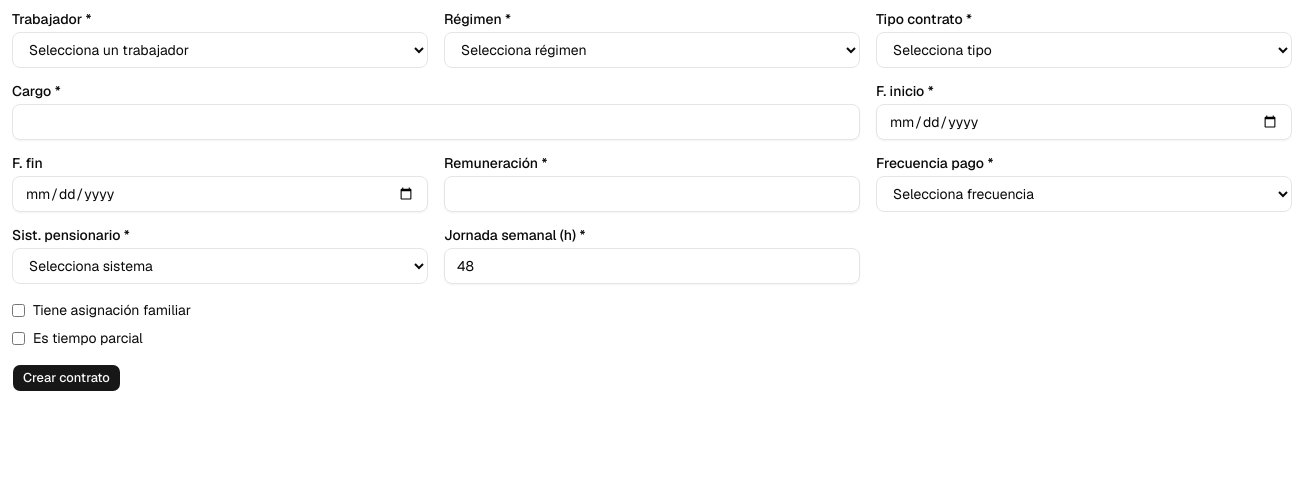
Scenario: ContratoForm — crear modo › CF6 regimenLaboral=CONSTRUCCION_CIVIL muestra Categoría CC
Select "Construcción Civil" in the dropdown labelled "Régimen *" at (652, 50), box [444,32,860,68]
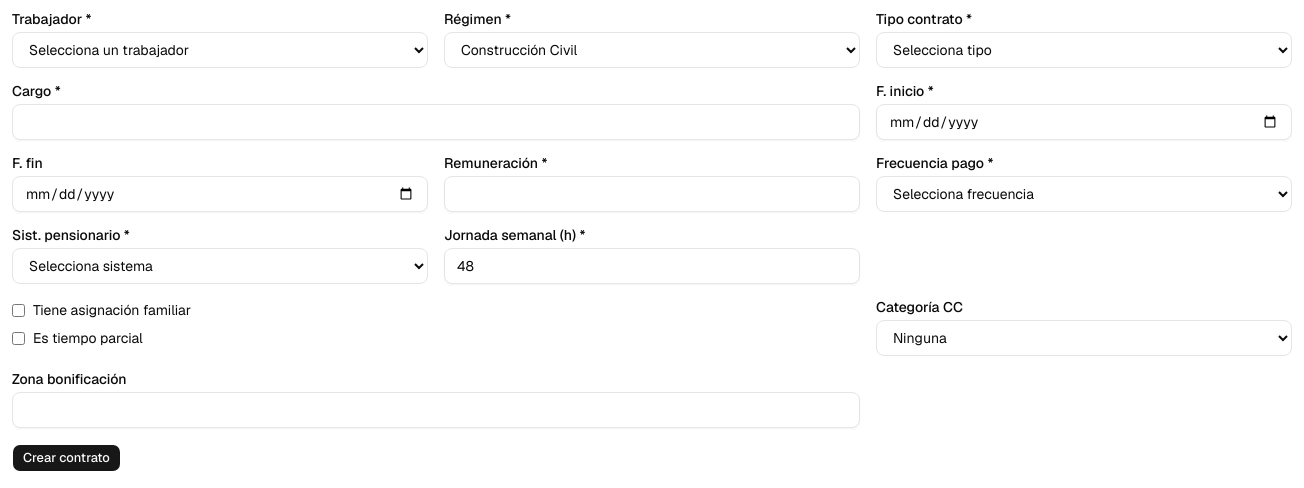
Now the dropdown labelled "Categoría CC" is shown, box [876,320,1292,356]
